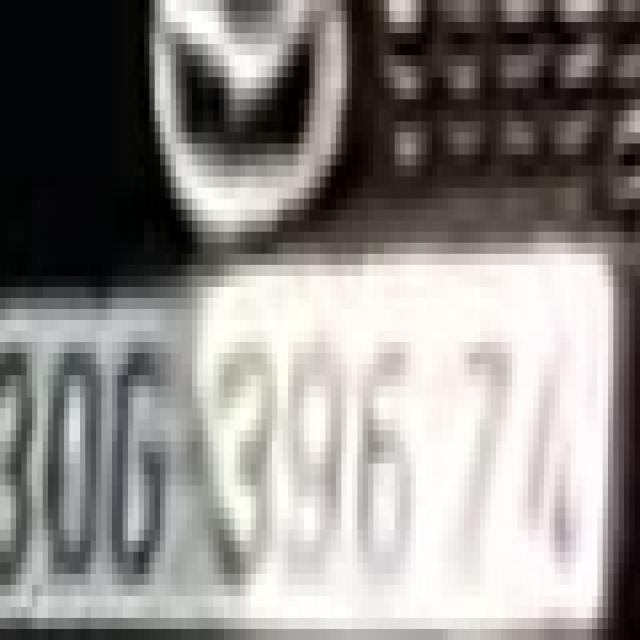0: (42, 342, 102, 574)
3: (208, 331, 278, 585)
4: (522, 309, 582, 574)
6: (352, 331, 416, 585)
7: (448, 331, 512, 585)
9: (282, 314, 352, 580)
G: (106, 342, 170, 585)
